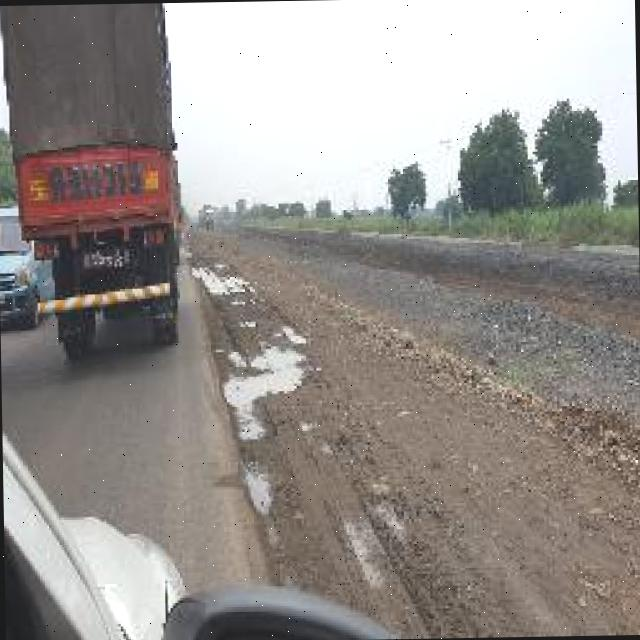stagnation: (212, 333, 318, 451), (188, 245, 276, 312)
